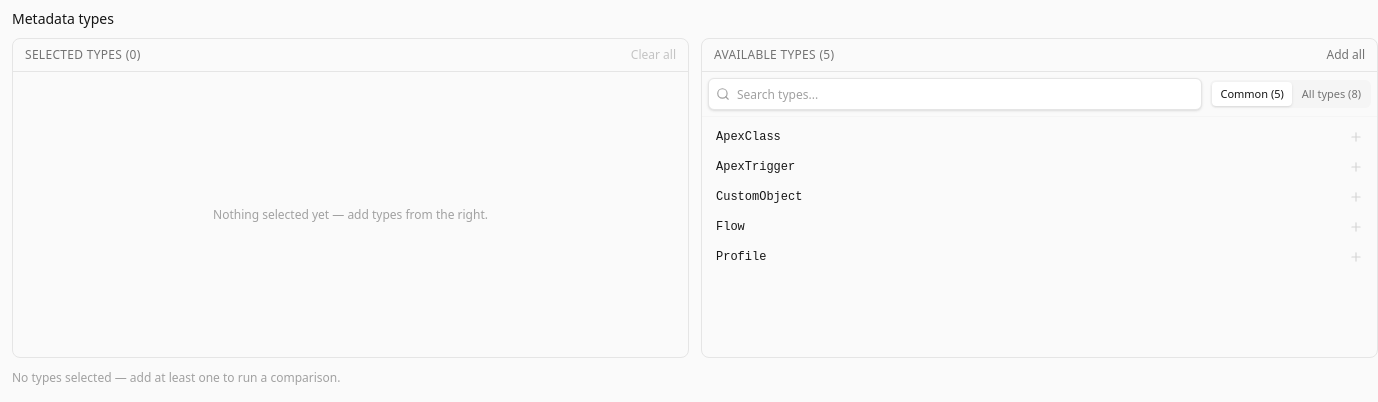
Test: TypeFilterPanel › a search with no matches in the curated scope offers a jump to search everything
Type "territory" into the field with placeholder "Search types..." at x=955, y=94, box [708,78,1202,110]
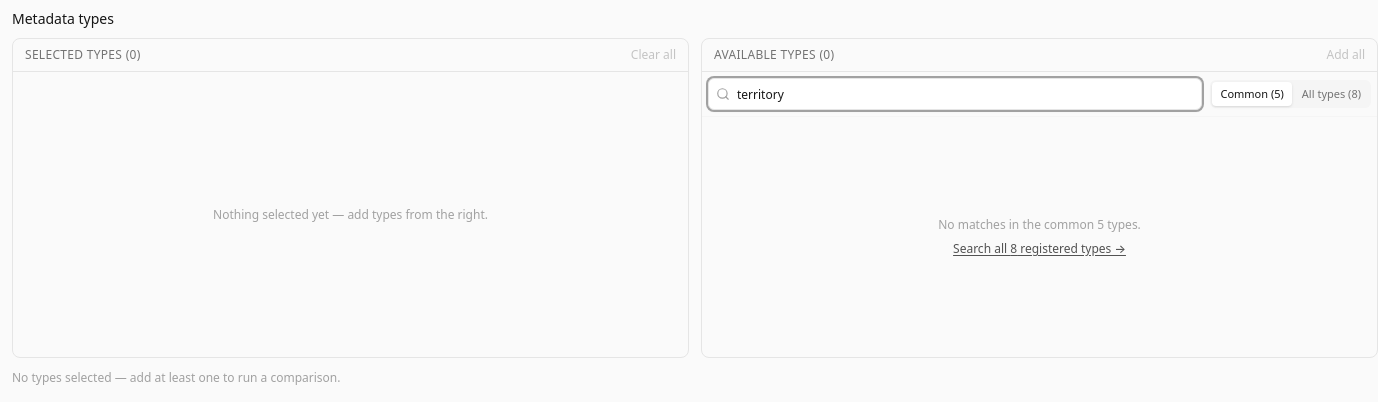
Expected: the text "No matches in the common 5 types." is shown, [938,217,1141,233]
Click the button "Search all 8 registered types →" at x=1040, y=249, box [953,241,1126,257]
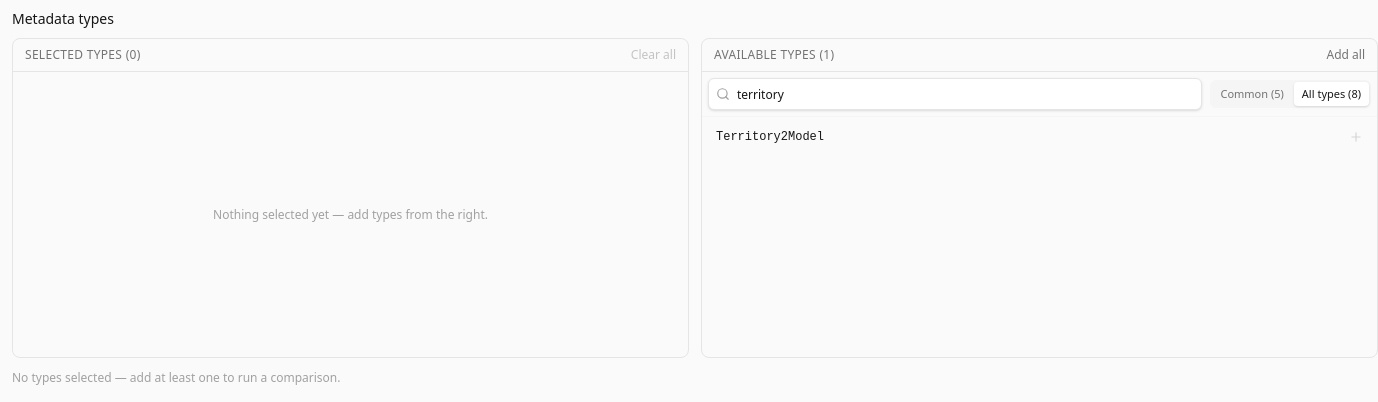
Expected: the text "Territory2Model" is shown, [716,129,824,145]
